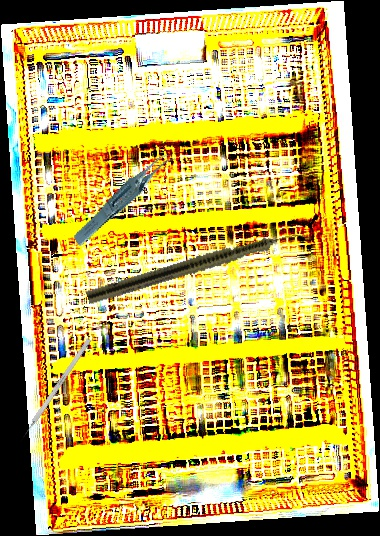Handpiece: (85, 222, 313, 308)
Hook Surgical: (18, 337, 92, 444)
Tissue Forceps: (60, 150, 191, 248)
